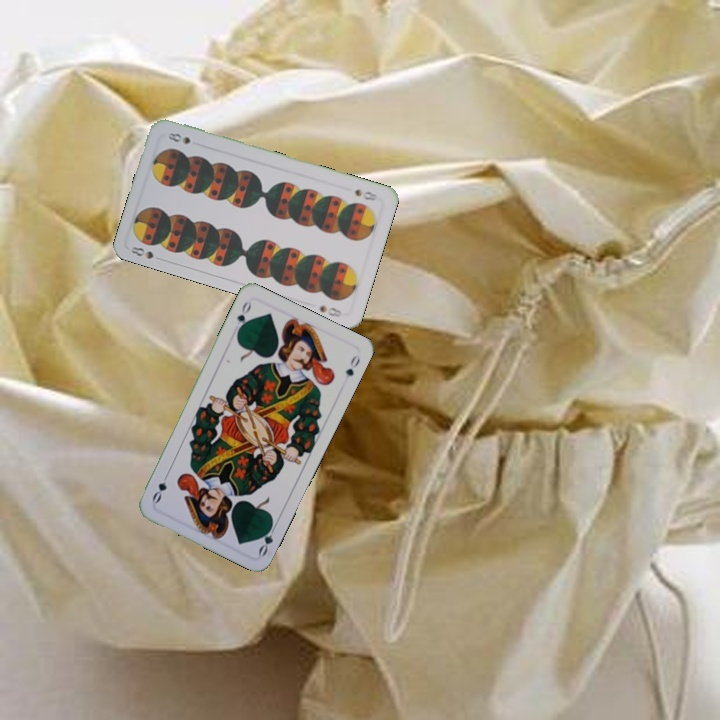GO: (254, 518, 280, 559), (233, 297, 254, 336)
S8: (127, 242, 166, 264), (351, 185, 380, 203)
